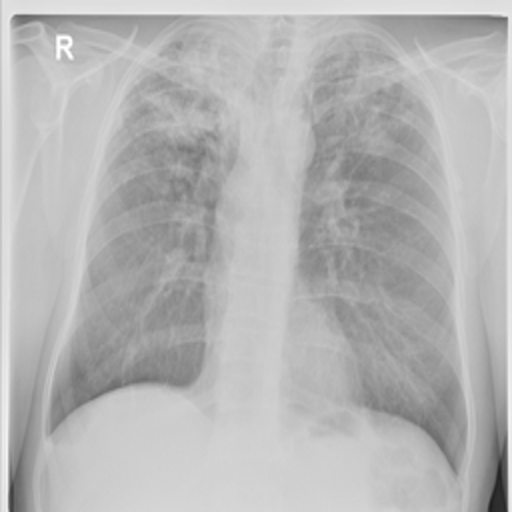TB: (124, 31, 228, 277), (318, 45, 409, 263)
